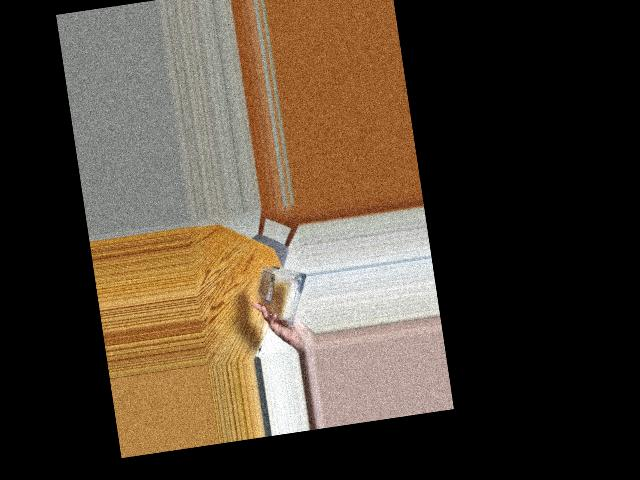cheese: (253, 262, 308, 323)
